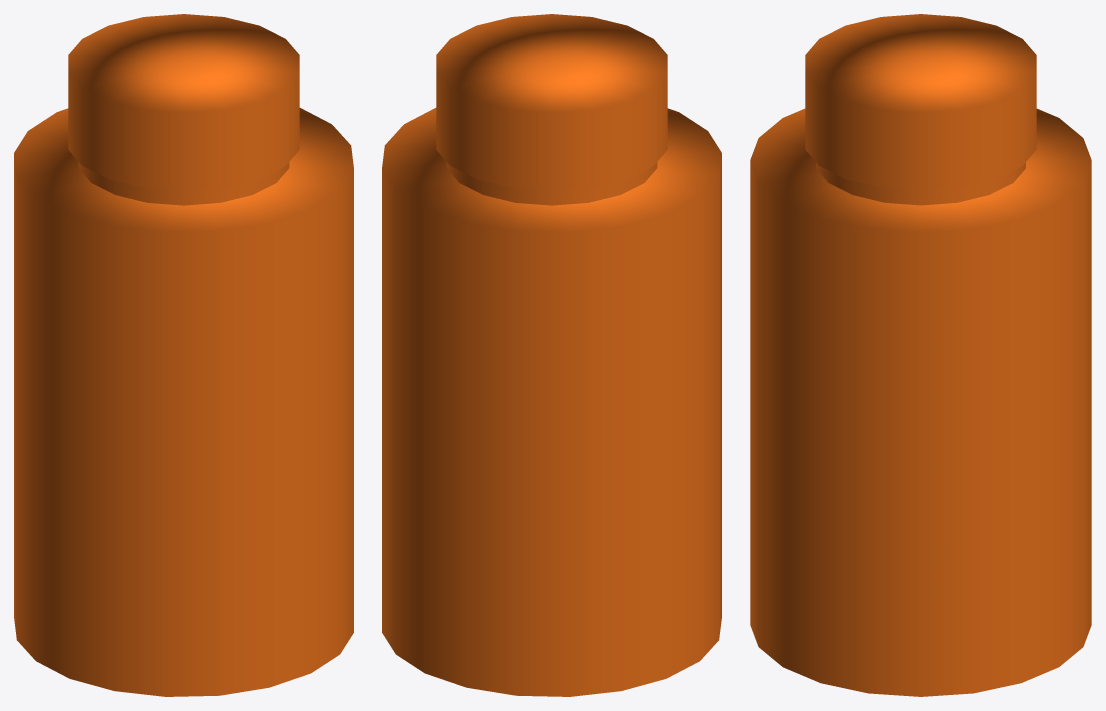
The model's file is bottle.obj.
3 renders of one model, left to right at view 1: azimuth 30°, elevation 25°; view 2: azimuth 150°, elevation 25°; view 3: azimuth 270°, elevation 25°, orthographic.
Parts seen in each view (by area): view 1: bottle; view 2: bottle; view 3: bottle.
Boxes of the visible parts, left/top/right/bottom form: bottle: left=14, top=14, right=353, bottom=696; bottle: left=382, top=14, right=721, bottom=696; bottle: left=750, top=14, right=1091, bottom=696.
Size of the model in its own units: 1.6 by 2.9 by 1.6.
